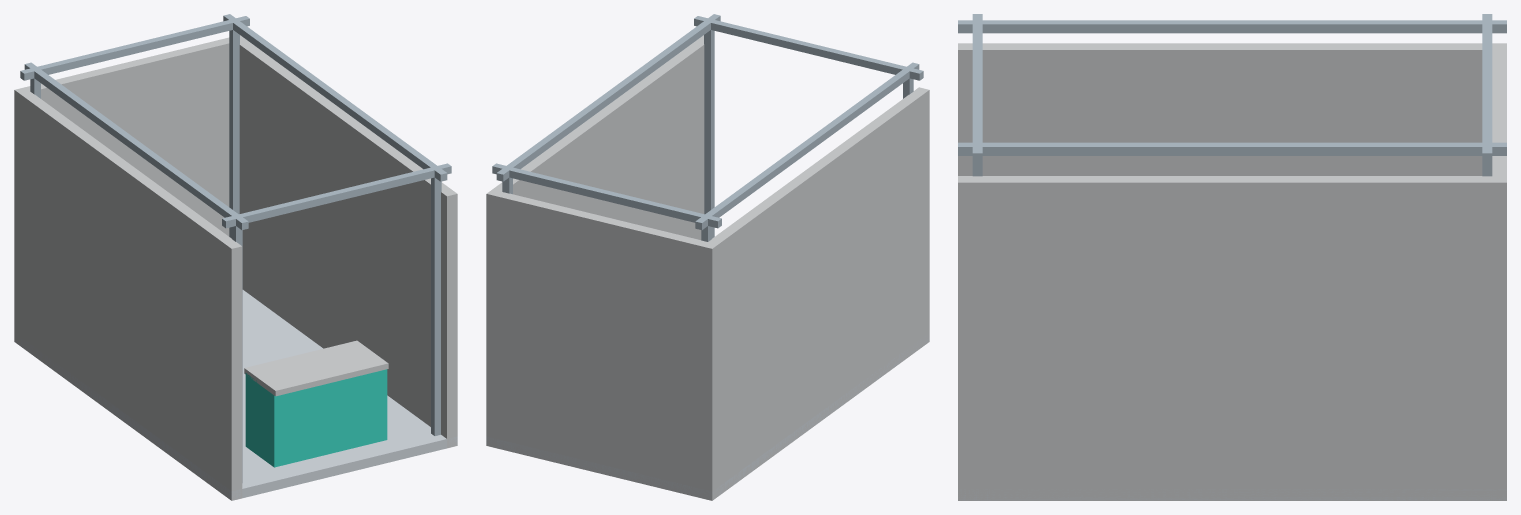
The picture shows the model from 3 angles, left to right: view 1: azimuth 30°, elevation 25°; view 2: azimuth 150°, elevation 25°; view 3: azimuth 270°, elevation 25°; orthographic projection. The views are drawn at different scales.
Visible parts, largest first — view 1: Exhibition Booth Concept; view 2: Exhibition Booth Concept; view 3: Exhibition Booth Concept.
Part boxes in pixels (bbox=[...]): Exhibition Booth Concept: bbox=[14, 14, 457, 500]; Exhibition Booth Concept: bbox=[486, 14, 929, 500]; Exhibition Booth Concept: bbox=[958, 14, 1506, 500].
Size of the model in its own units: 3 by 3.49 by 5.
